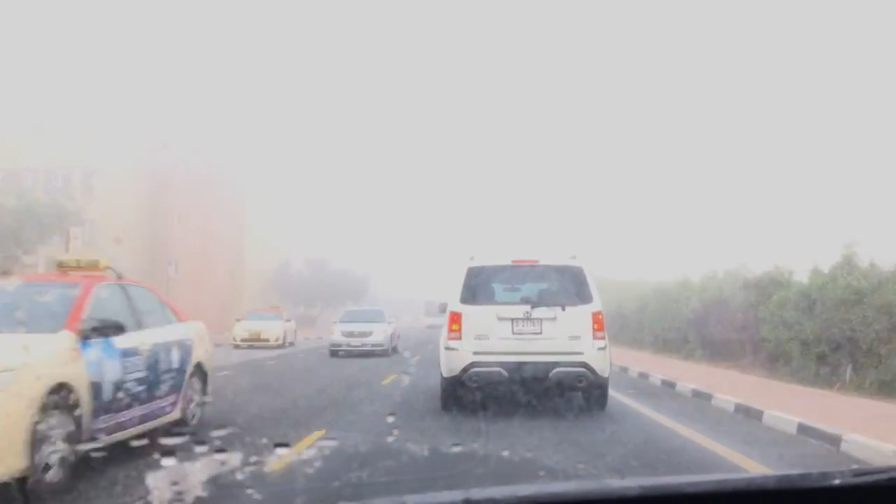car: (1, 252, 212, 502), (436, 250, 613, 416), (326, 303, 402, 358), (230, 305, 299, 351)
